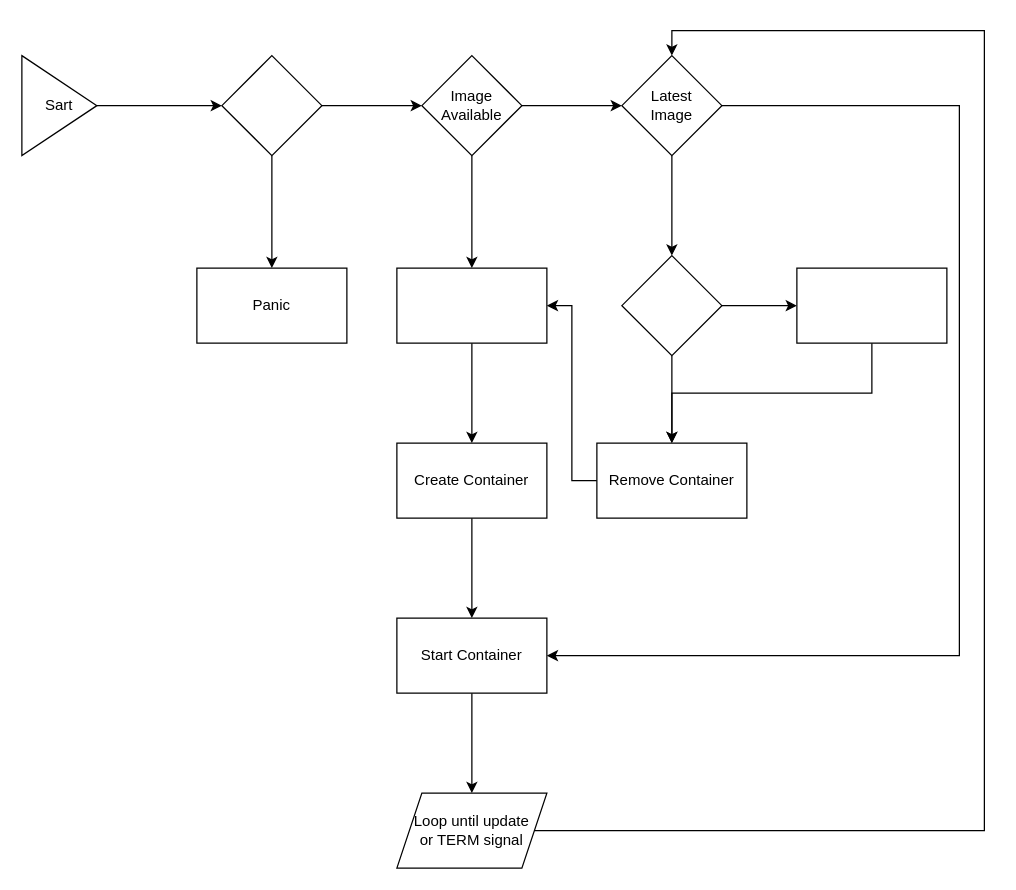
Some shapes in this 1016 by 890 pixel diagram are drawn without their labels. Here are the shapes that lost their labels. From the top down, the box of each, then its label:
(221, 54, 322, 156): Docker Available
(396, 267, 547, 343): Pull image from Docker Hub
(621, 254, 722, 356): Container Exists
(796, 267, 947, 343): Stop Container
